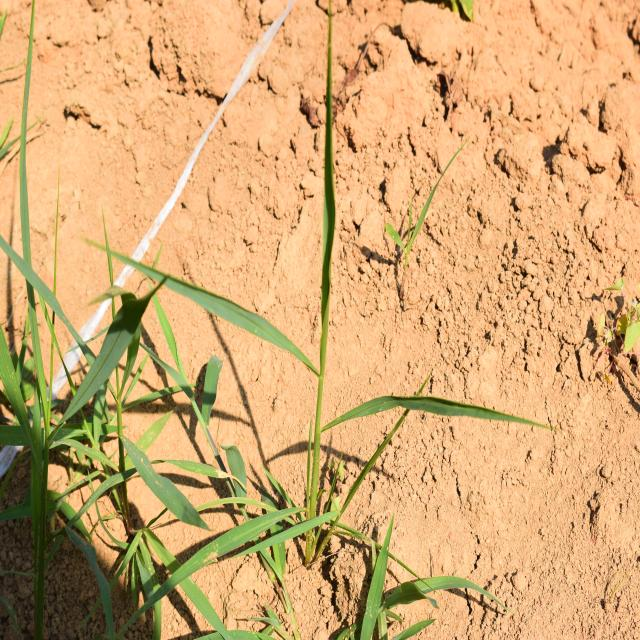green_foxtail: (159, 149, 431, 541)
